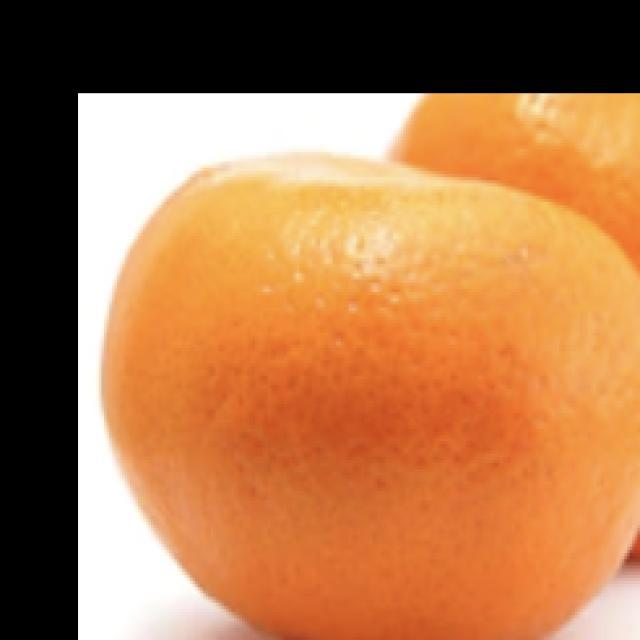Orange: (99, 149, 639, 639), (387, 91, 639, 561)
